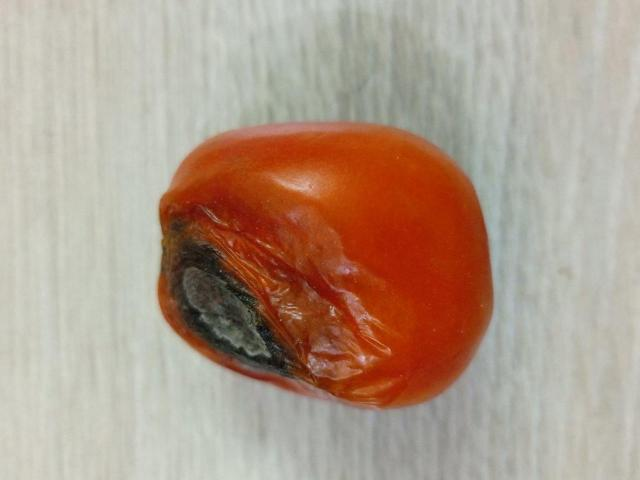defect: (156, 117, 499, 412)
